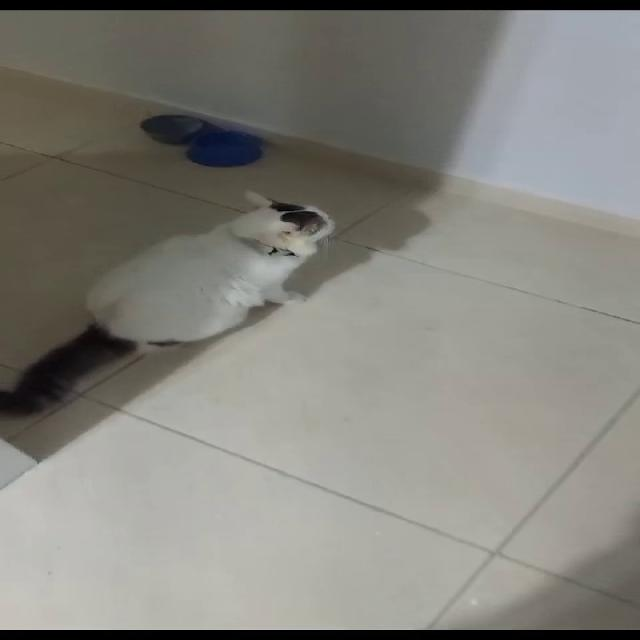Simba: (31, 184, 361, 421)
